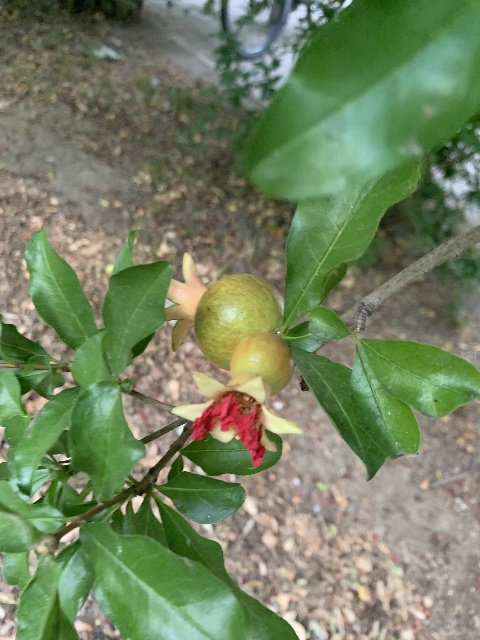early-fruit: (170, 333, 302, 469), (165, 252, 283, 366)
